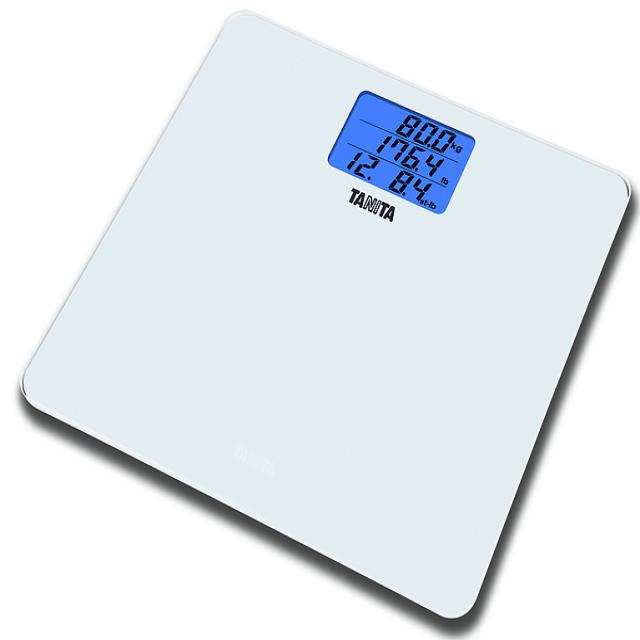.: (401, 190, 408, 197), (425, 140, 431, 148), (414, 166, 420, 173), (367, 174, 372, 181)
0: (433, 124, 456, 153), (415, 117, 439, 143)
1: (348, 148, 363, 172), (378, 131, 392, 153)
2: (354, 147, 380, 176)
4: (426, 152, 444, 179), (414, 177, 431, 201)
6: (402, 141, 426, 168)
7: (391, 138, 410, 162)
8: (396, 112, 421, 138), (389, 168, 414, 192)
screen: (328, 90, 476, 202)
